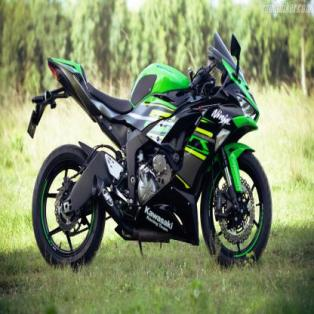Motocicleta: (26, 31, 277, 266)
